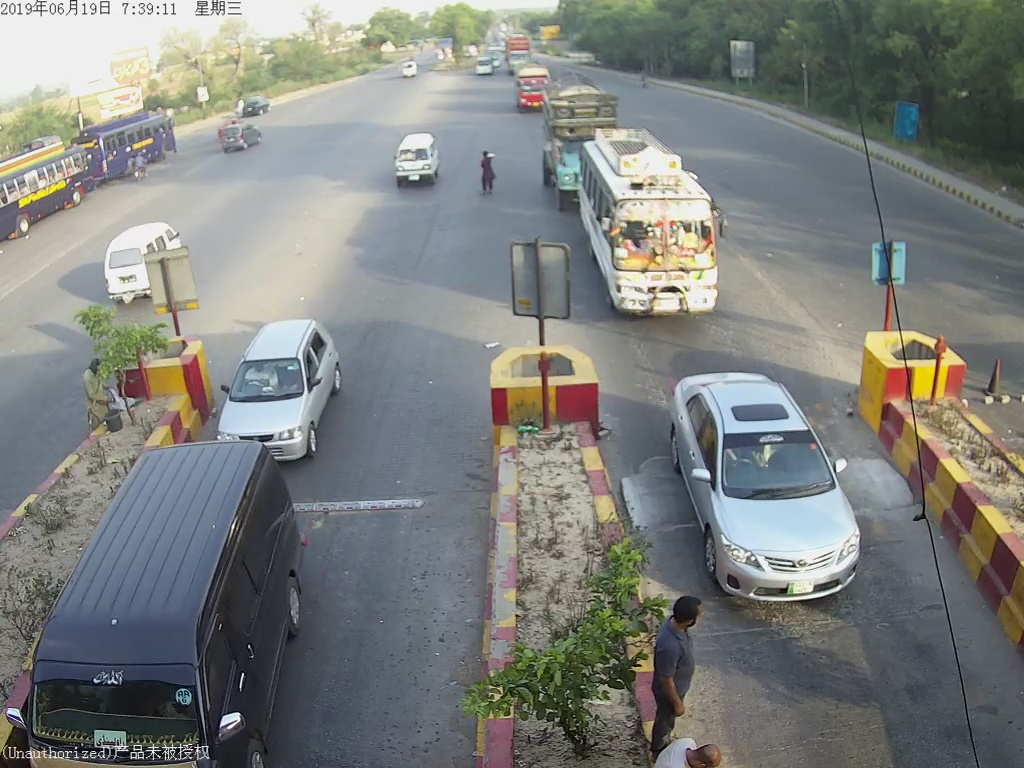Cat-1: (667, 373, 871, 599), (217, 323, 340, 460), (395, 131, 438, 188)
Cat-3: (582, 130, 730, 325)
Cat-4: (538, 73, 616, 210)
